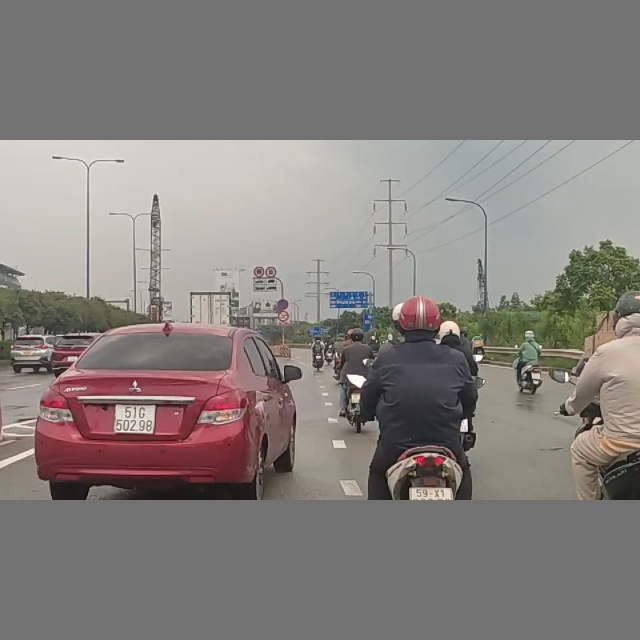P.130: (277, 299, 289, 310)
